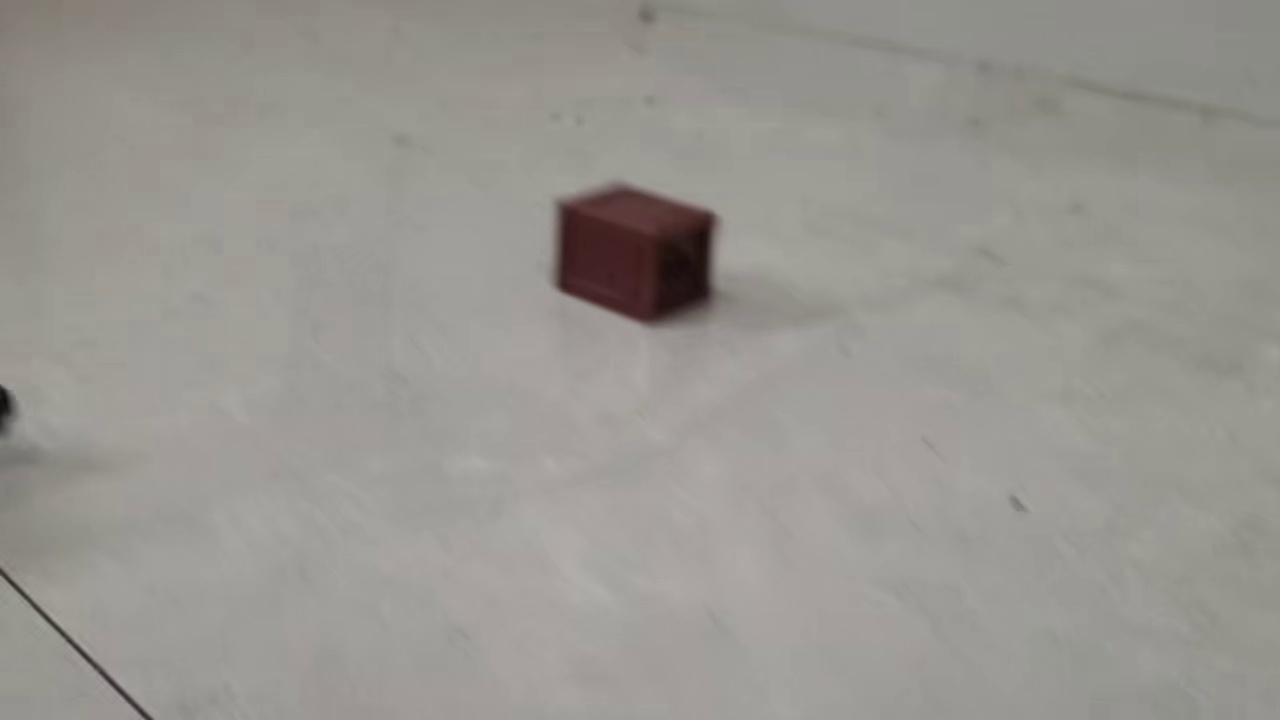box: (550, 182, 723, 324)
